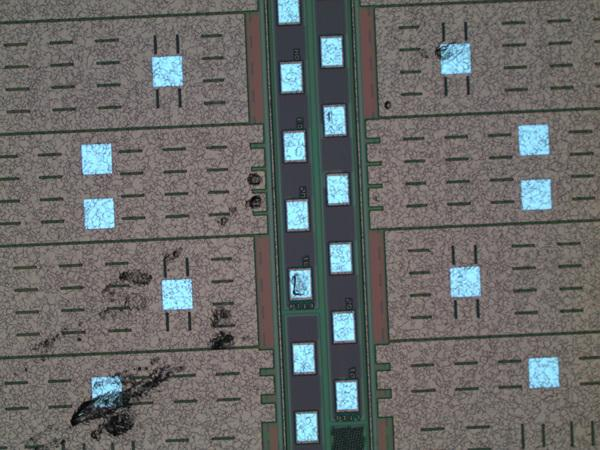SCRATCH: (22, 131, 339, 450)
